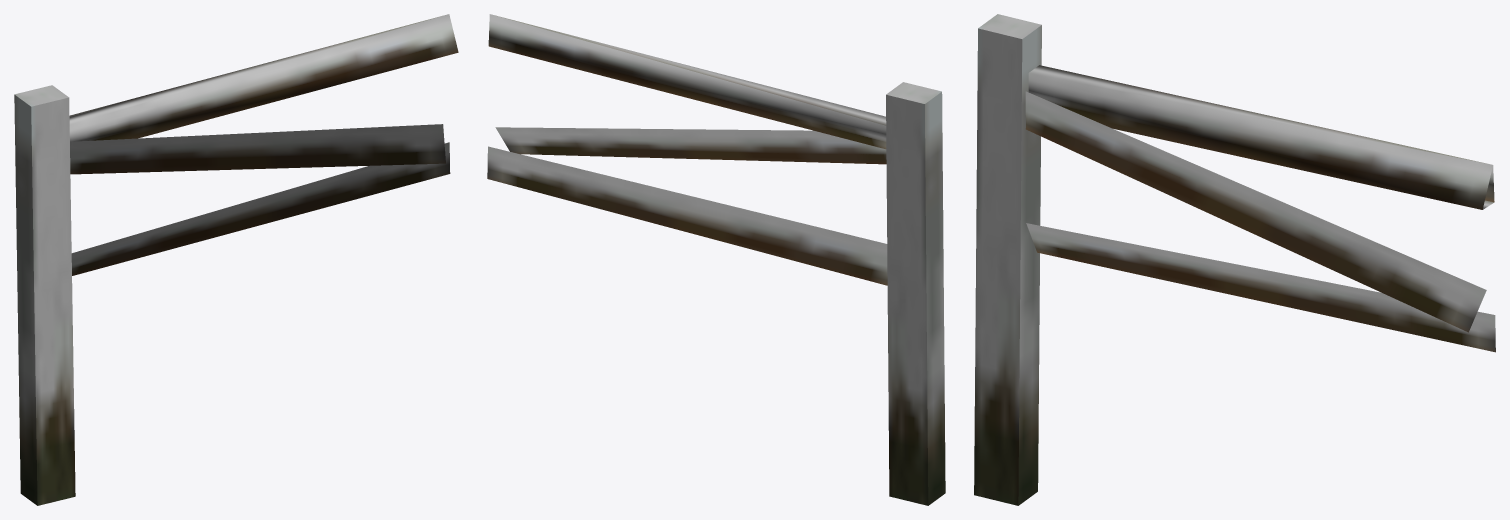
The model's file is general_obj_fence05_lod_01.fbx.
The picture shows the model from 3 angles, left to right: view 1: azimuth 30°, elevation 25°; view 2: azimuth 150°, elevation 25°; view 3: azimuth 330°, elevation 25°; orthographic projection. The views are drawn at different scales.
Visible parts, largest first — view 1: Sphere01; view 2: Sphere01; view 3: Sphere01.
Boxes of the visible parts, box(x1,y1,x2,y2) form: Sphere01: box(14, 14, 458, 505); Sphere01: box(487, 14, 945, 505); Sphere01: box(974, 14, 1495, 505).
Bounding box in the file's own units: 2.44 × 2.14 × 0.213.
